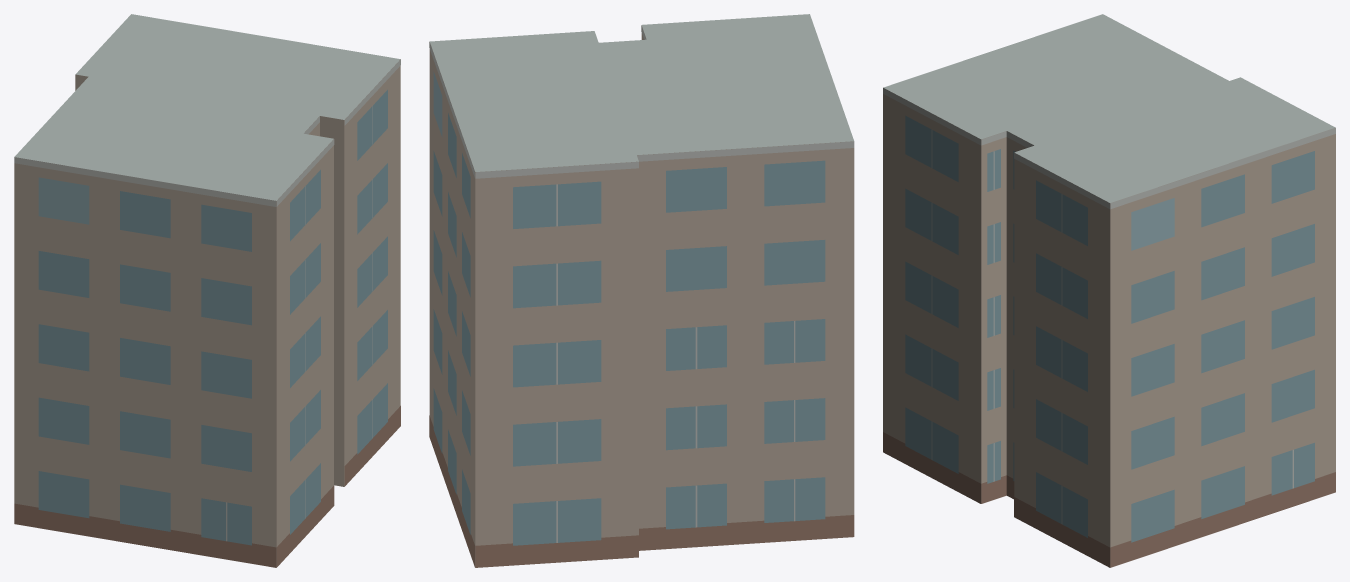
The model's file is survey-upis-32745441.glb.
3 views of the same model, side by side, from view 1: azimuth 30°, elevation 25°; view 2: azimuth 150°, elevation 25°; view 3: azimuth 270°, elevation 25° (orthographic). The views are drawn at different scales.
Visible parts, largest first — view 1: survey-upis-32745441.tmp; view 2: survey-upis-32745441.tmp; view 3: survey-upis-32745441.tmp.
Boxes of the visible parts, x1,y1,x2,y2 form: survey-upis-32745441.tmp: [14, 14, 400, 567]; survey-upis-32745441.tmp: [429, 14, 854, 567]; survey-upis-32745441.tmp: [883, 14, 1335, 567].
Bounding box in the file's own units: 16.03 × 14.4 × 16.21.
